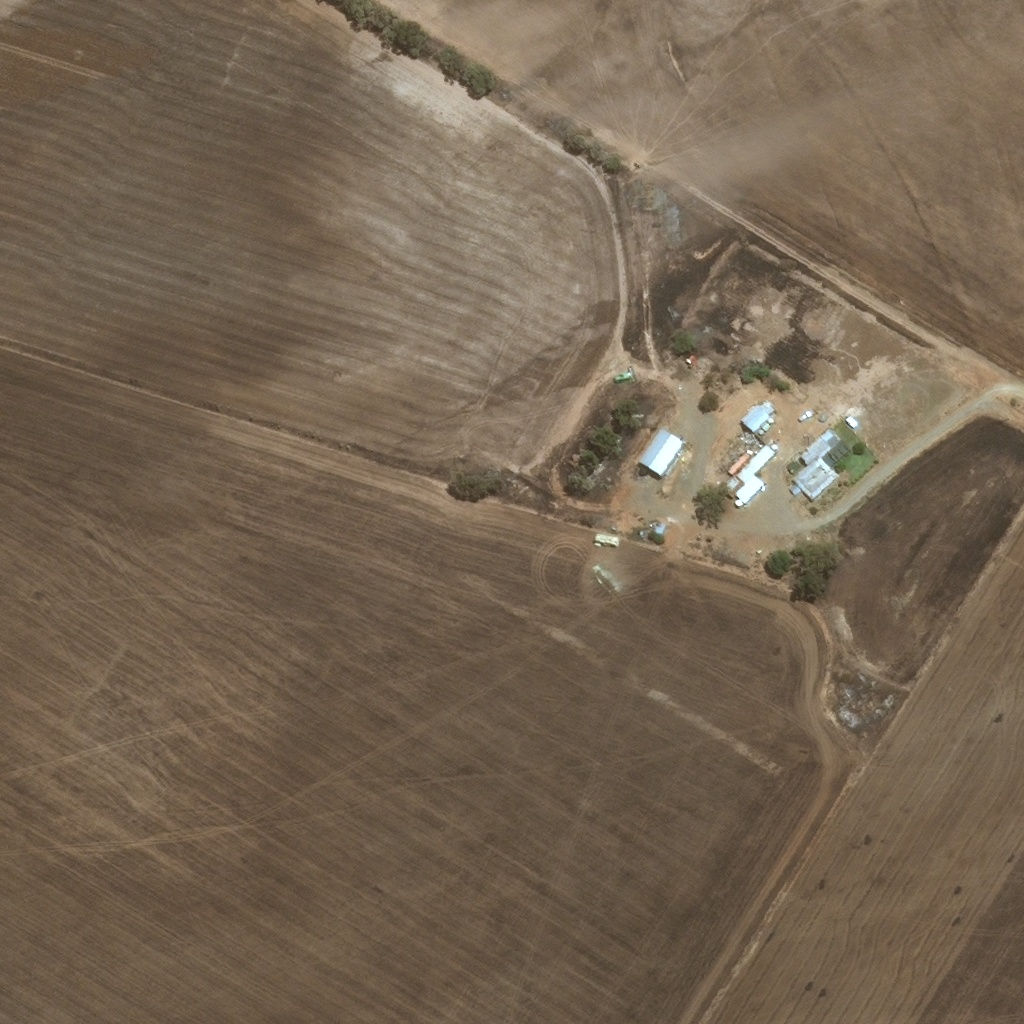0 no-damage: (787, 429, 852, 501), (733, 444, 775, 507), (638, 425, 685, 475), (742, 399, 775, 430), (652, 521, 666, 539), (785, 460, 800, 474), (817, 411, 829, 424), (756, 547, 767, 559)
2 major-damage: (726, 443, 758, 474)
